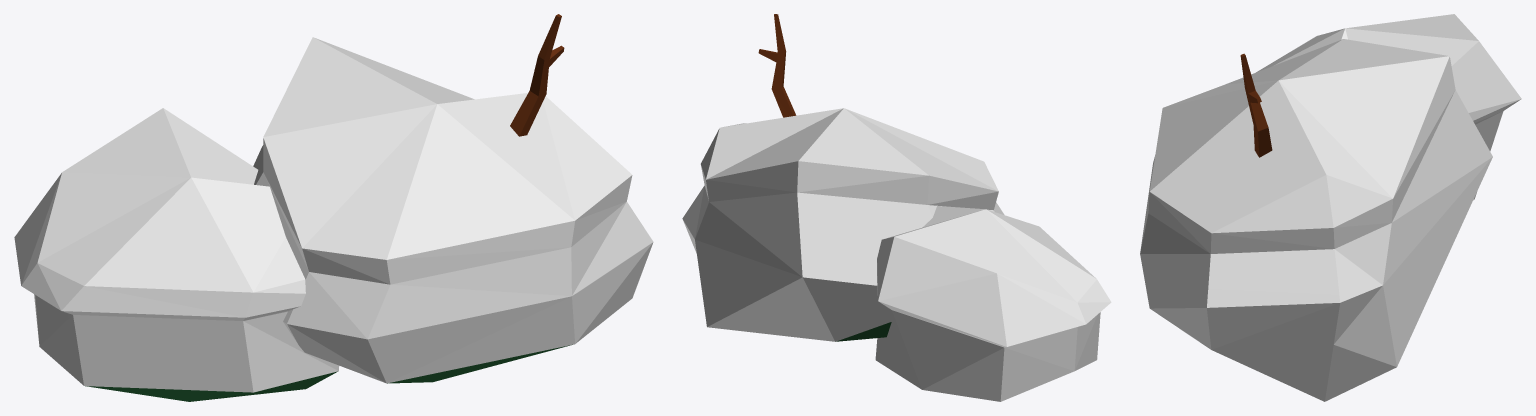
File: Bush_winter_003.fbx
The picture shows the model from 3 angles, left to right: view 1: azimuth 30°, elevation 25°; view 2: azimuth 150°, elevation 25°; view 3: azimuth 270°, elevation 25°; orthographic projection. The views are drawn at different scales.
Parts seen in each view (by area): view 1: Bush_winter_003; view 2: Bush_winter_003; view 3: Bush_winter_003.
Boxes of the visible parts, x1,y1,x2,y2 form: Bush_winter_003: (14, 14, 653, 401); Bush_winter_003: (682, 14, 1111, 401); Bush_winter_003: (1140, 14, 1521, 401).
Size of the model in its own units: 252 by 161 by 165.
